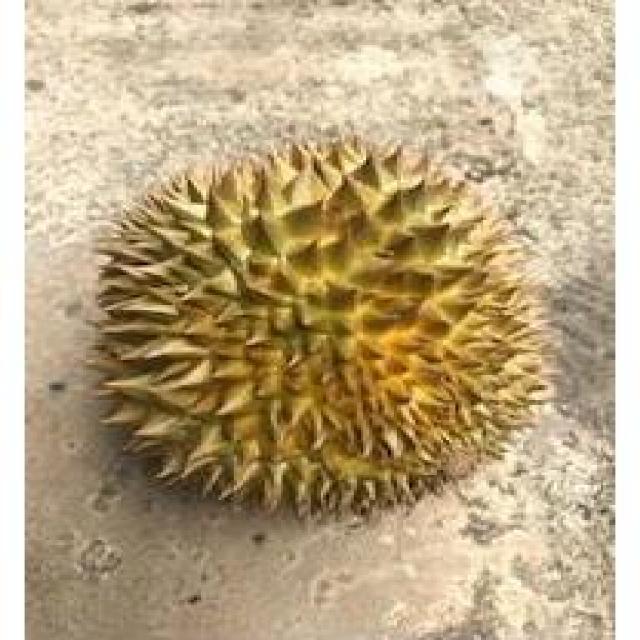fruit: (77, 197, 452, 565)
